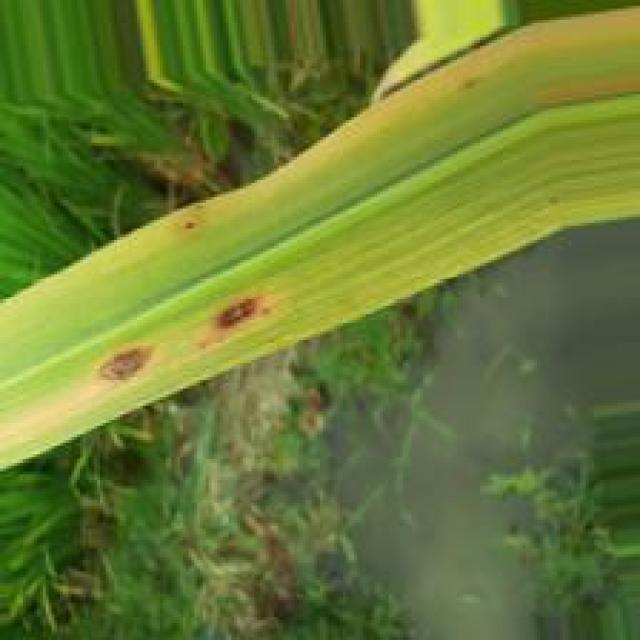Brown_Spot: (199, 292, 268, 340), (89, 342, 161, 386), (180, 220, 198, 230)
